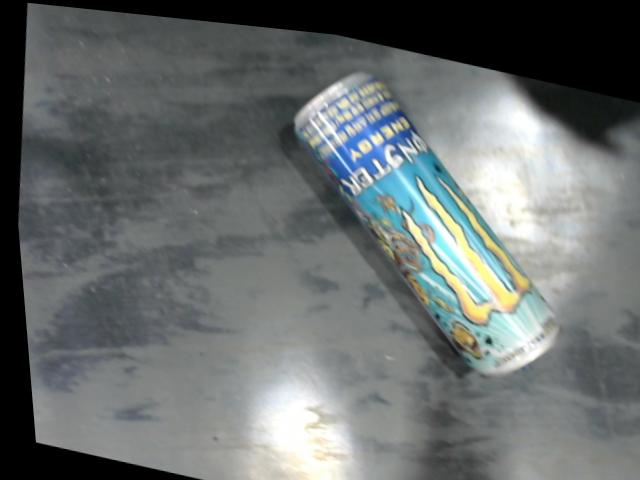can: (289, 59, 560, 371)
